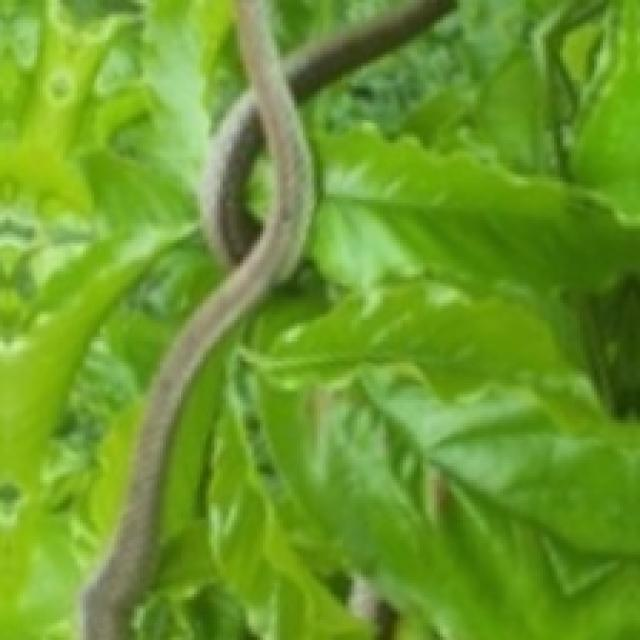paradise tree snake: (80, 0, 311, 637)
